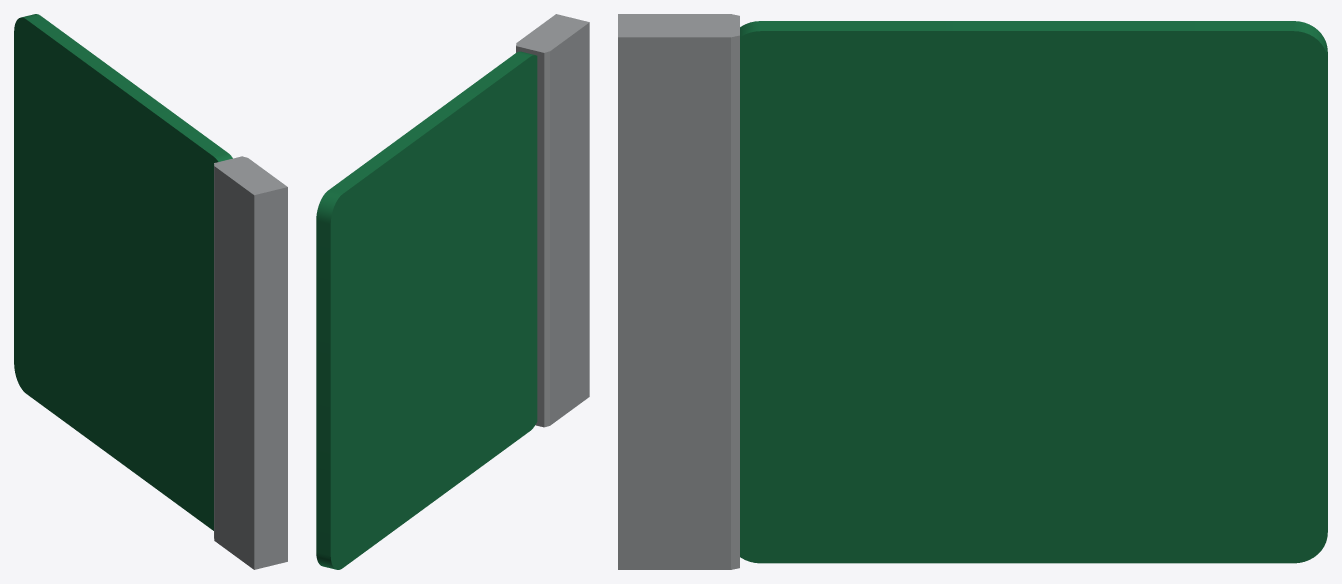
File: exit-sign-panel.glb
3 views of the same model, side by side, from view 1: azimuth 30°, elevation 25°; view 2: azimuth 150°, elevation 25°; view 3: azimuth 270°, elevation 25° (orthographic). The views are drawn at different scales.
Visible parts, largest first — view 1: exit_panel; view 2: exit_panel; view 3: exit_panel.
Boxes of the visible parts, x1,y1,x2,y2 form: exit_panel: (14,14,287,569); exit_panel: (316,14,589,569); exit_panel: (618,14,1327,569).
Bounding box in the file's own units: 0.0245 × 0.2602 × 0.3142.
